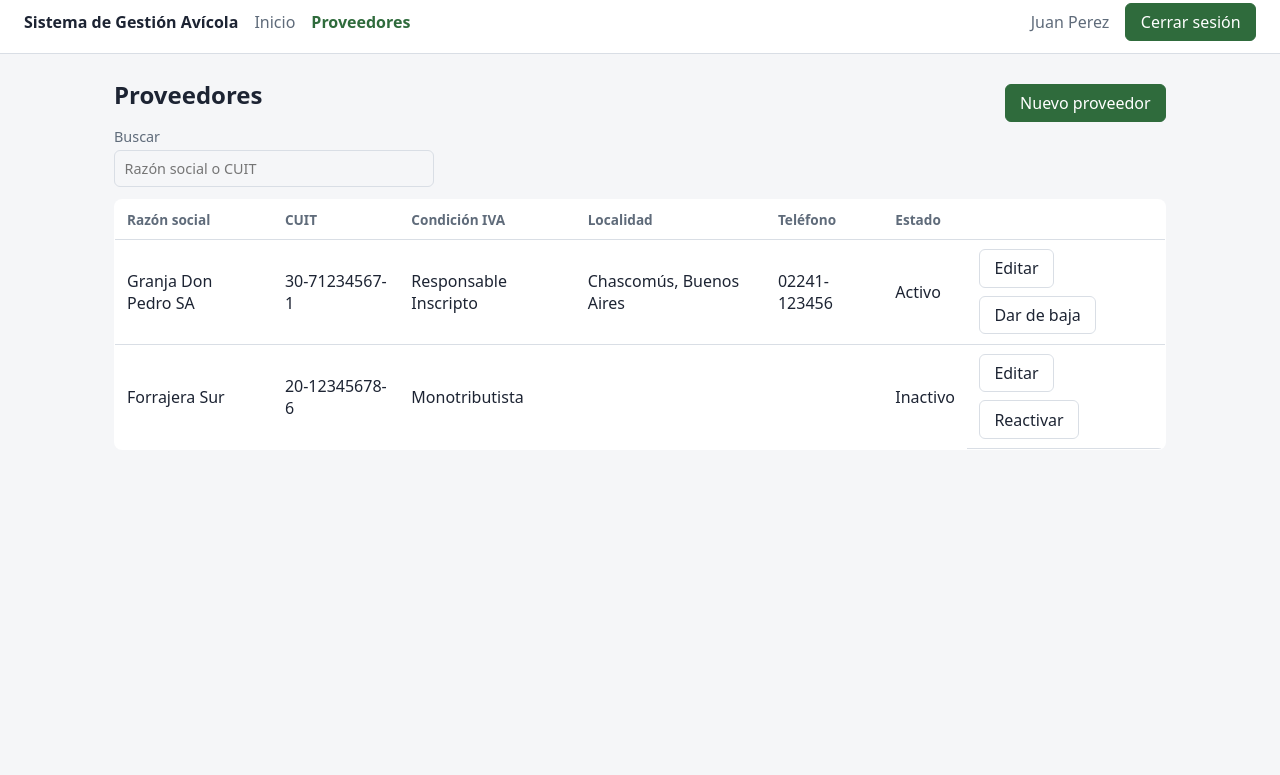
SuppliersPage › creates a supplier
The width and height of the screenshot is (1280, 775).
Click the button "Nuevo proveedor". click: [1085, 103]
box: [1005,84,1166,122]
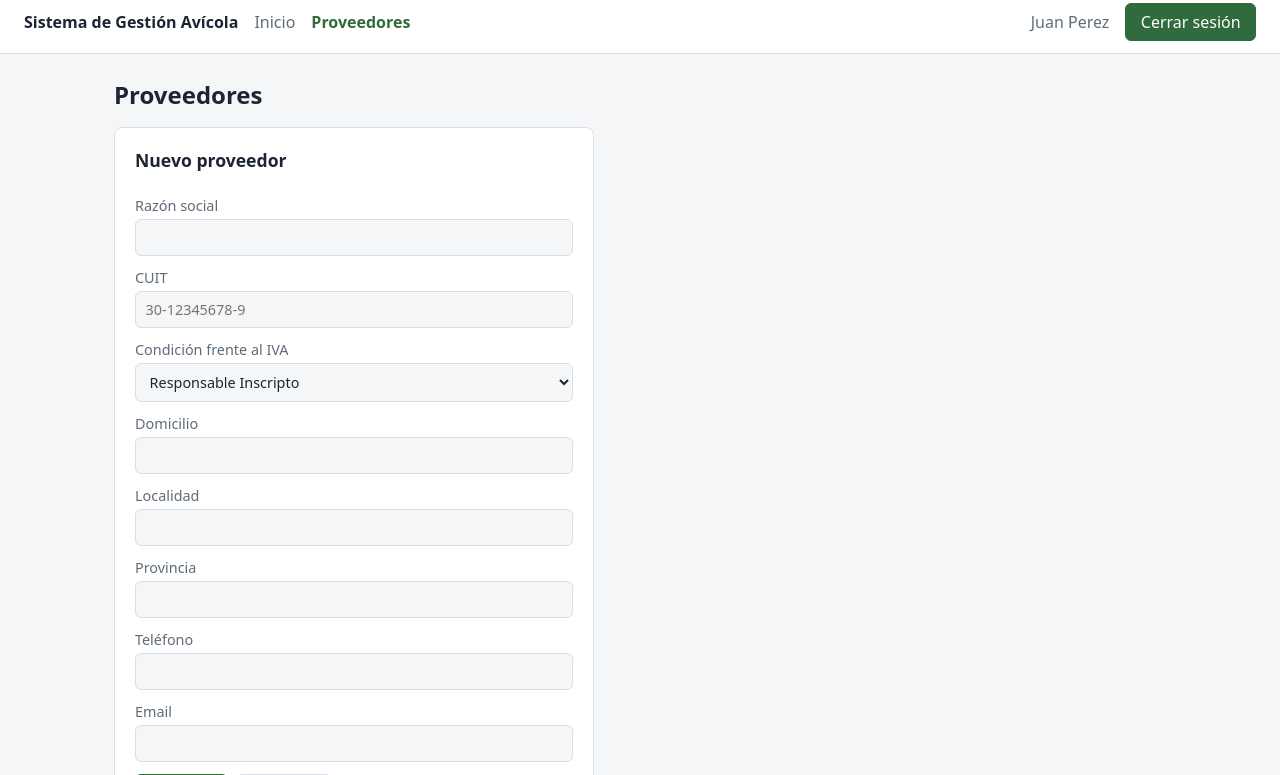
Type "Avícola del Sur" into the field labelled "Razón social". click: [354, 238]
box: [135,219,573,256]
Type "30-50000000-3" into the field labelled "CUIT". click: [354, 310]
box: [135,291,573,328]
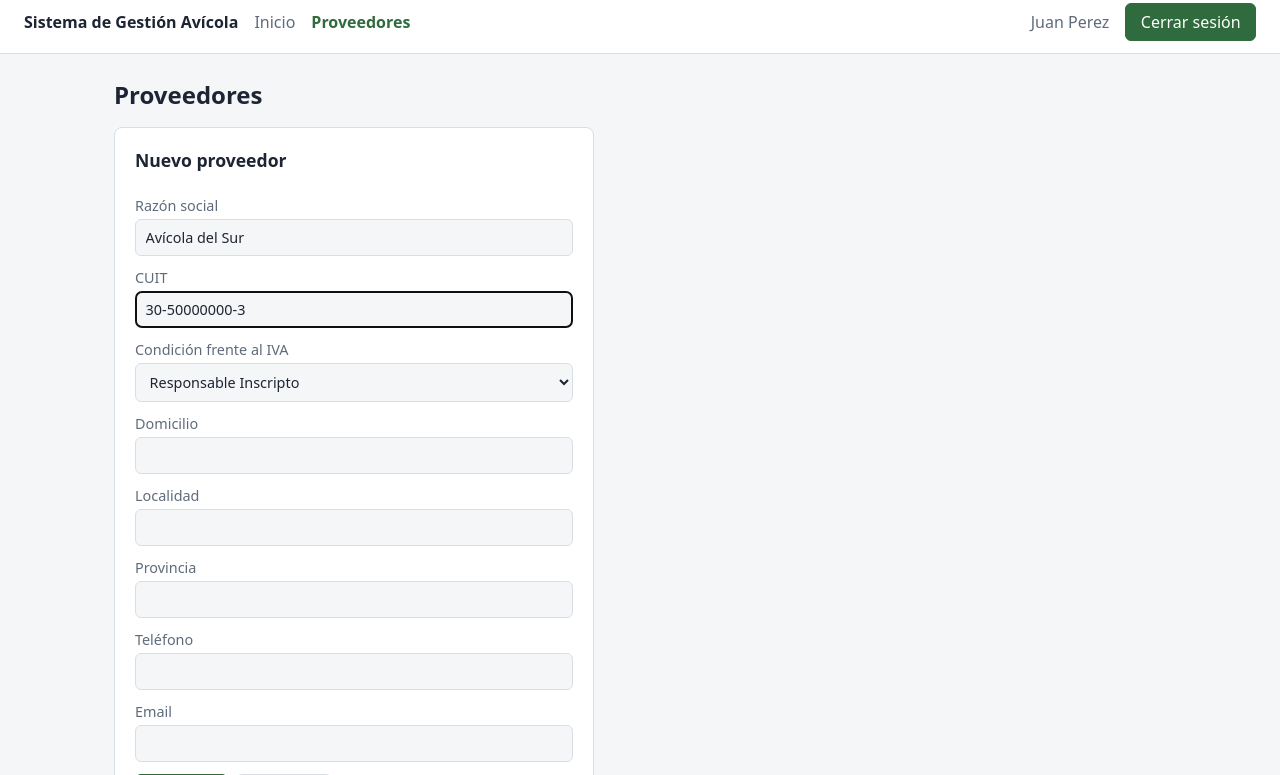
Select "Exento" in the dropdown labelled "Condición frente al IVA". click: [354, 383]
box: [135,363,573,402]
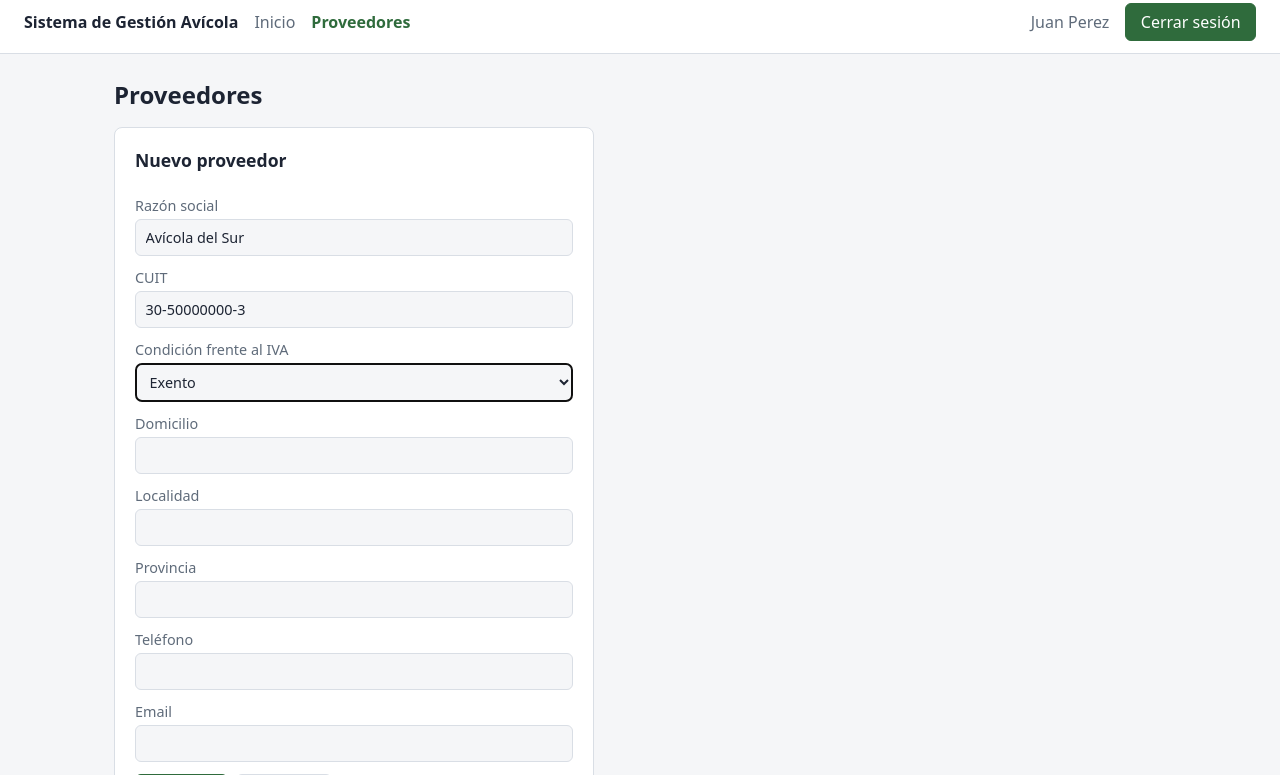
Type "Dolores" into the field labelled "Localidad". click: [354, 528]
box: [135,509,573,546]
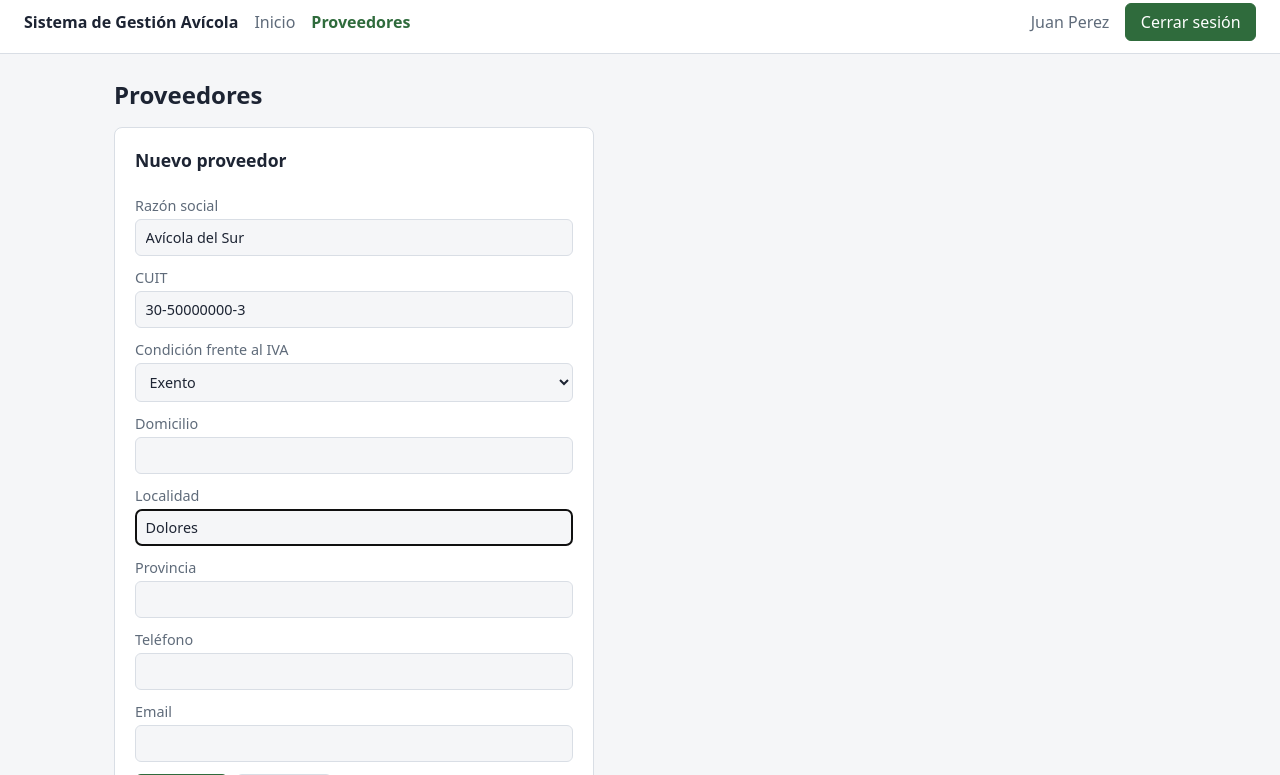
Type "compras@avisur.com" into the field labelled "Email". click: [354, 744]
box: [135,725,573,762]
(page scrolled)
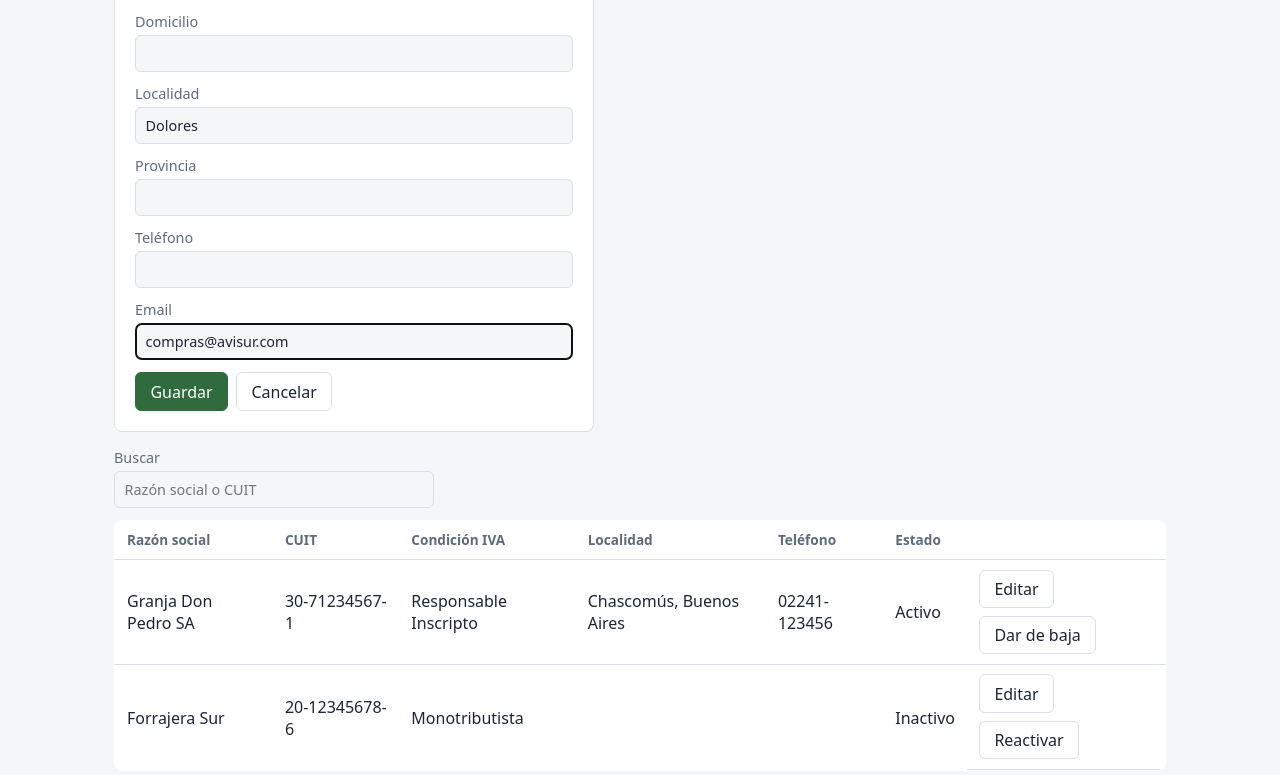
Click the button "Guardar". click: [182, 392]
box: [135,372,228,411]
(page scrolled)
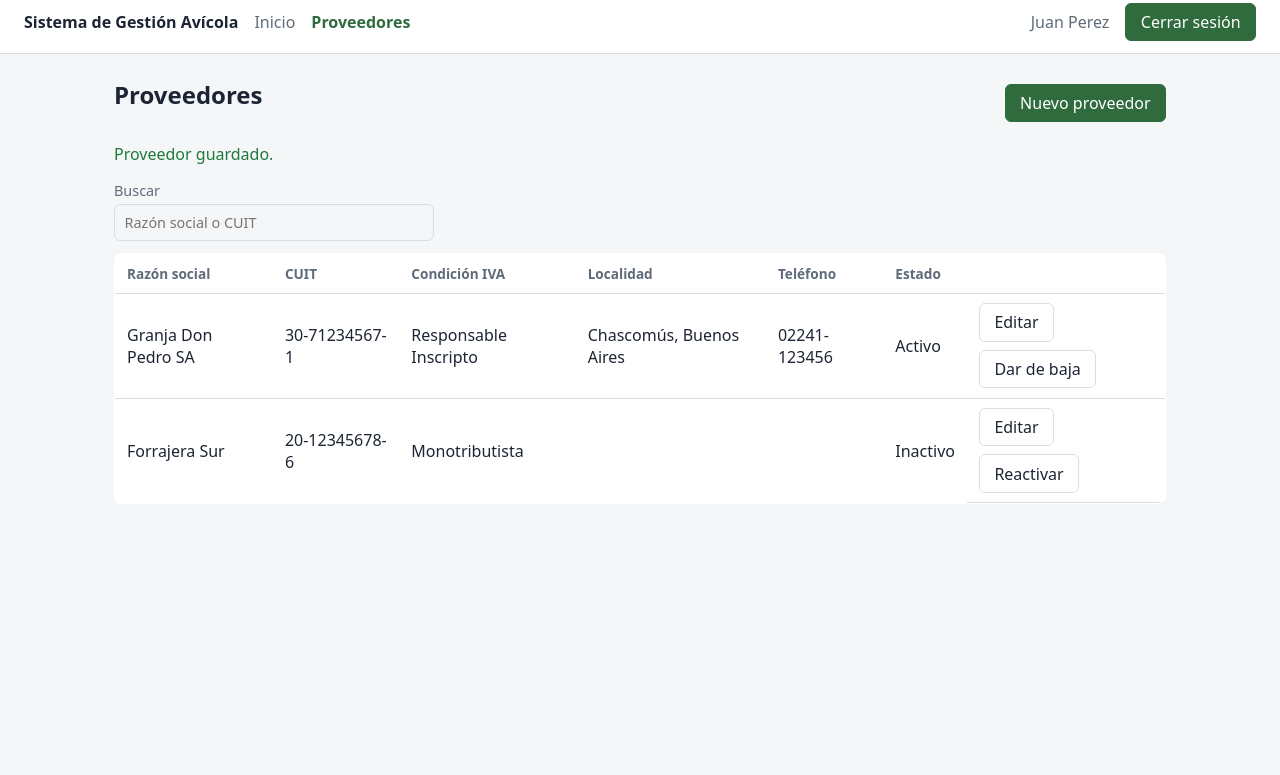
expect the text "Proveedor guardado." is shown: met, box [114,143,273,165]
